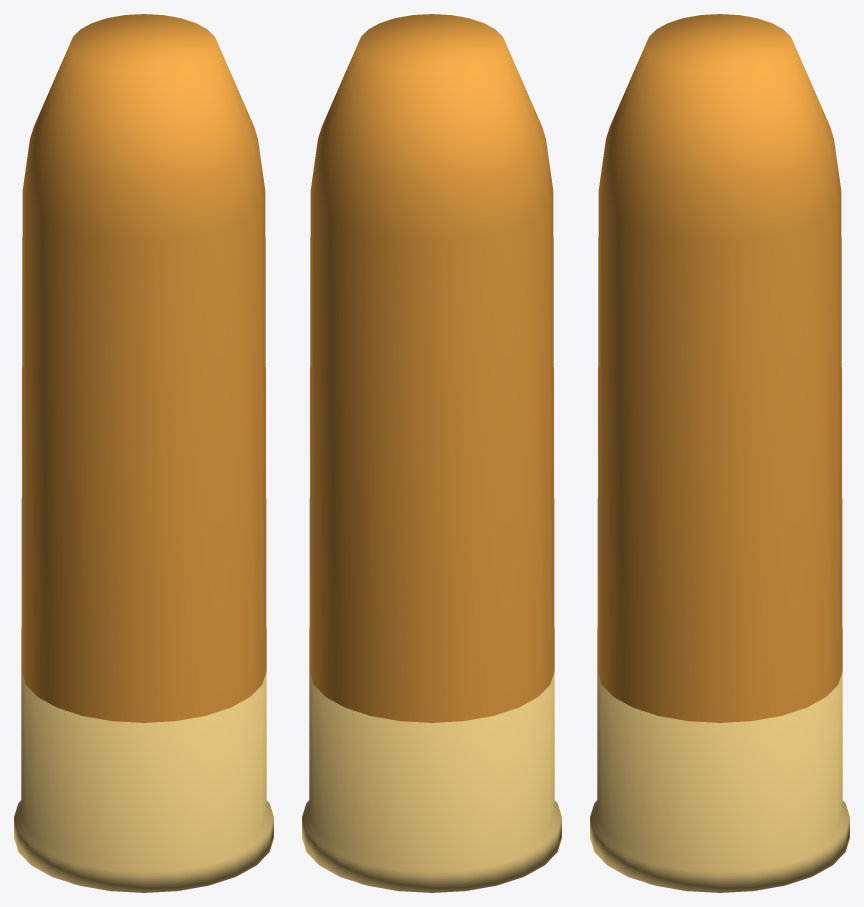
3 renders of one model, left to right at view 1: azimuth 30°, elevation 25°; view 2: azimuth 150°, elevation 25°; view 3: azimuth 270°, elevation 25°, orthographic.
Parts seen in each view (by area): view 1: cuerpo, culote; view 2: cuerpo, culote; view 3: cuerpo, culote.
Part boxes in pixels (x1=…): cuerpo: x1=21, y1=14, x2=266, y2=722; culote: x1=14, y1=671, x2=273, y2=892; cuerpo: x1=309, y1=14, x2=554, y2=722; culote: x1=302, y1=671, x2=561, y2=892; cuerpo: x1=597, y1=14, x2=842, y2=722; culote: x1=590, y1=671, x2=849, y2=892.
Bounding box in the file's own units: 0.0226 × 0.076 × 0.0226.
